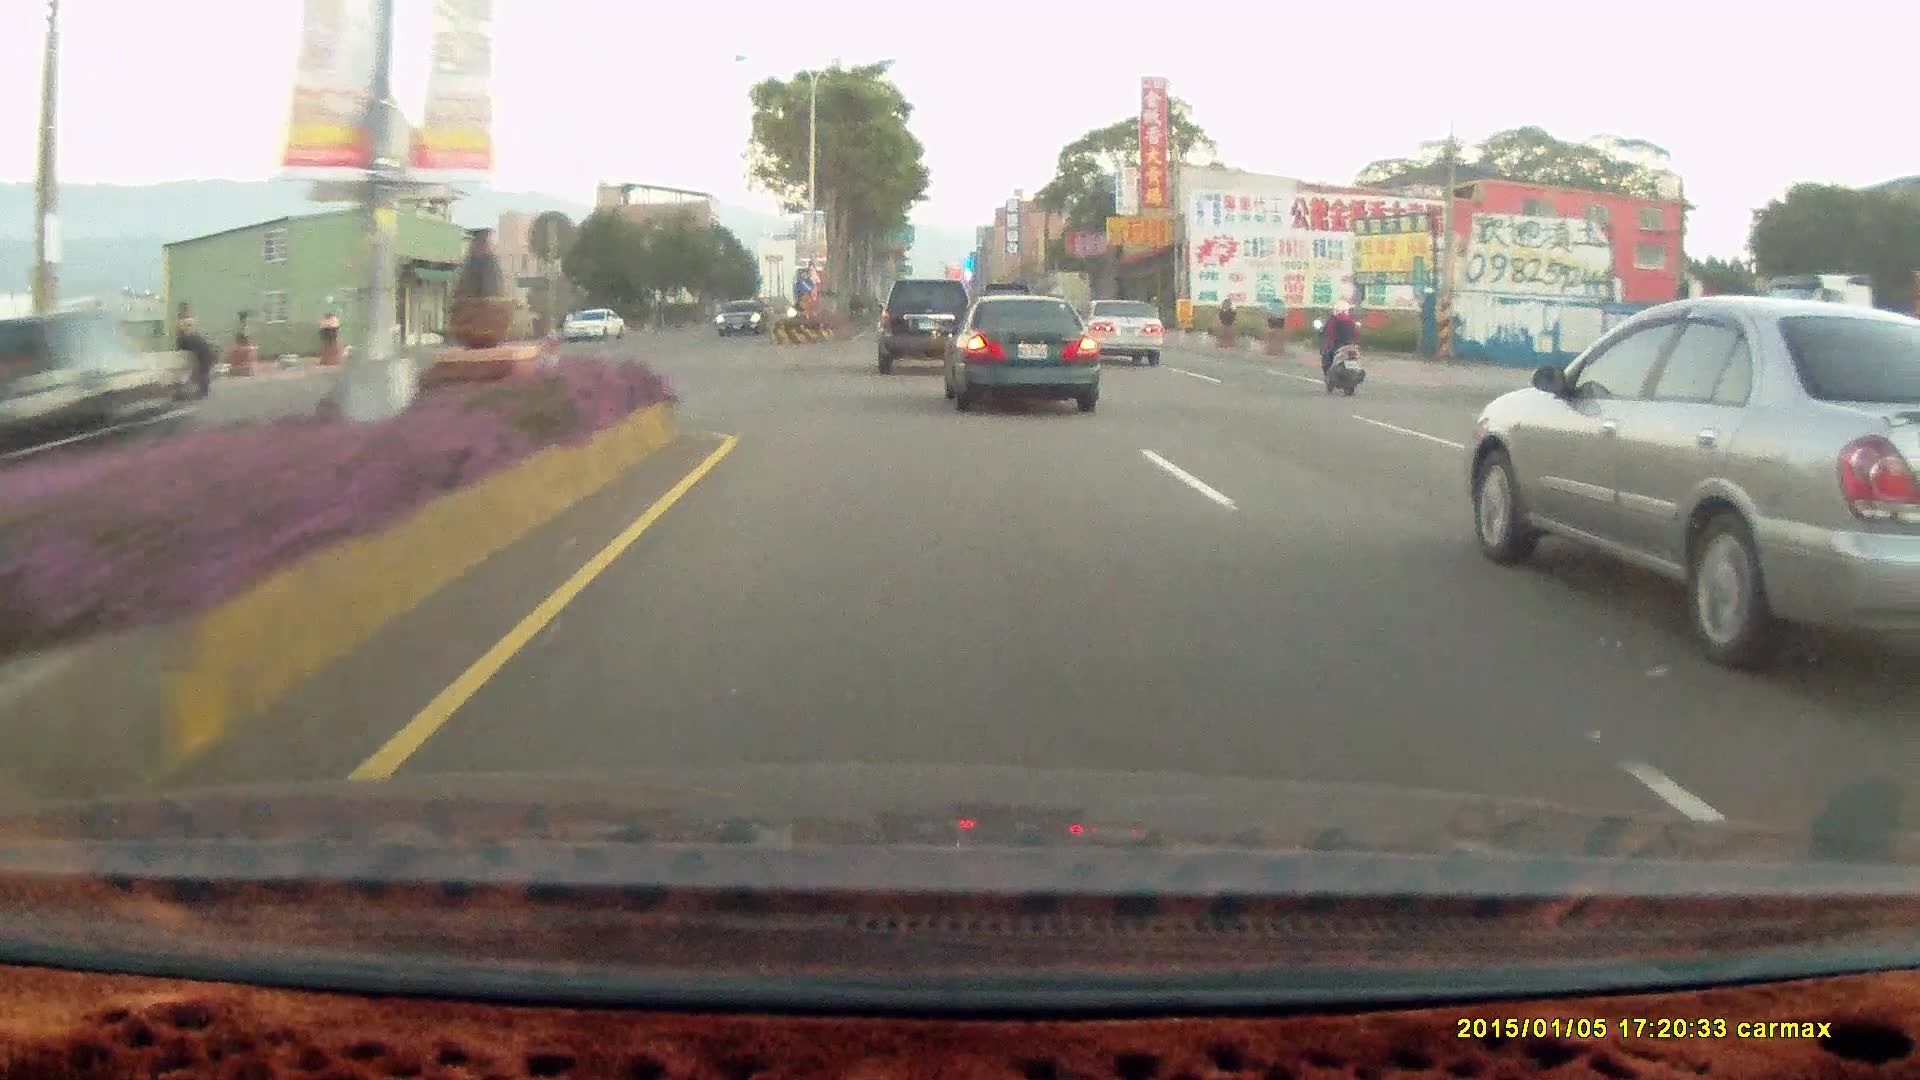pedestrian: (171, 328, 214, 401)
rider: (1304, 288, 1377, 404), (1310, 298, 1366, 396)
vehicle: (1460, 302, 1920, 671), (0, 303, 194, 514), (932, 292, 1092, 410), (951, 297, 1109, 416), (880, 276, 981, 374), (875, 281, 973, 376), (1078, 298, 1165, 370), (1078, 297, 1164, 367), (563, 309, 629, 346), (714, 300, 769, 342), (562, 308, 625, 342), (714, 300, 768, 338)
